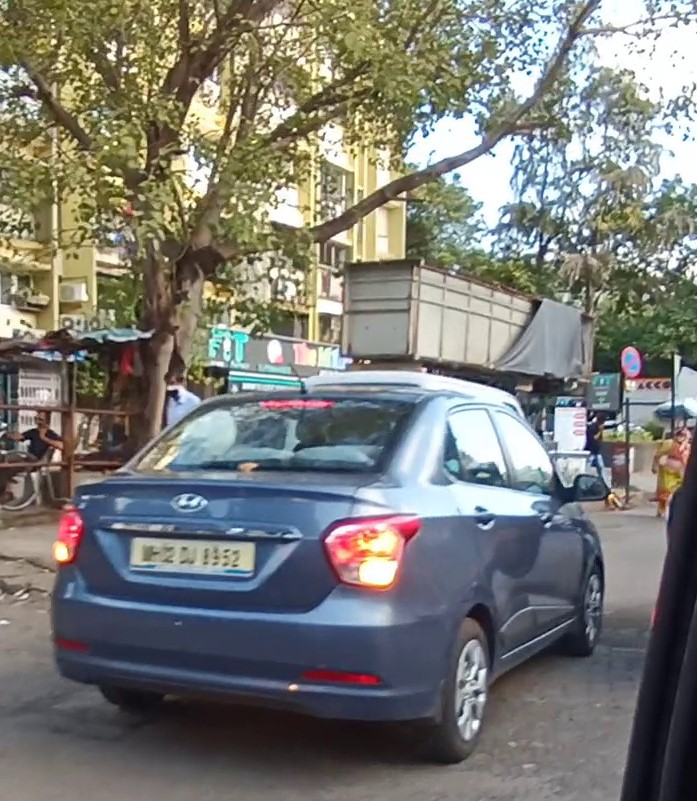MH02DJ8952: (130, 534, 256, 579)
